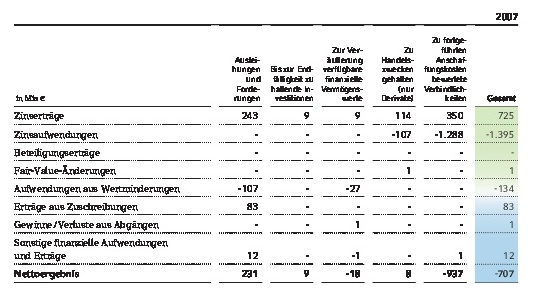table: (0, 0, 539, 299)
